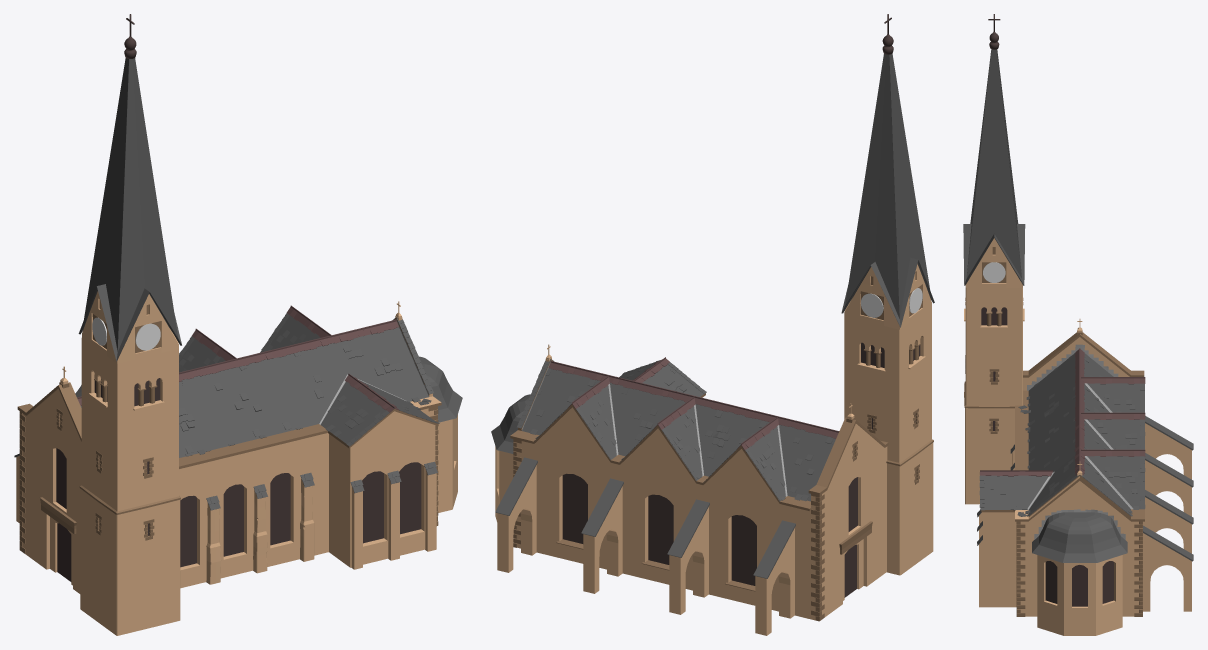
The model's file is church.fbx.
3 views of the same model, side by side, from view 1: azimuth 30°, elevation 25°; view 2: azimuth 150°, elevation 25°; view 3: azimuth 270°, elevation 25° (orthographic). The views are drawn at different scales.
Parts seen in each view (by area): view 1: Unity_Export_Mesh; view 2: Unity_Export_Mesh; view 3: Unity_Export_Mesh.
Part boxes in pixels (box(x1,y1,x2,y2)): Unity_Export_Mesh: box(14, 14, 462, 635); Unity_Export_Mesh: box(491, 14, 934, 635); Unity_Export_Mesh: box(963, 14, 1193, 635).
Bounding box in the file's own units: 2338 × 3279 × 1432.
